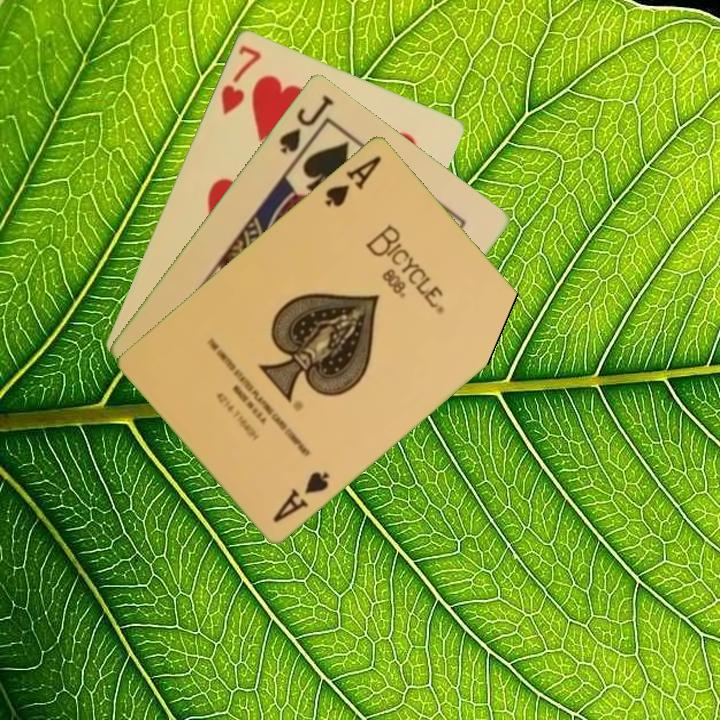7h: (217, 41, 264, 118)
As: (269, 467, 333, 525), (321, 151, 384, 209)
Js: (275, 90, 337, 156)
